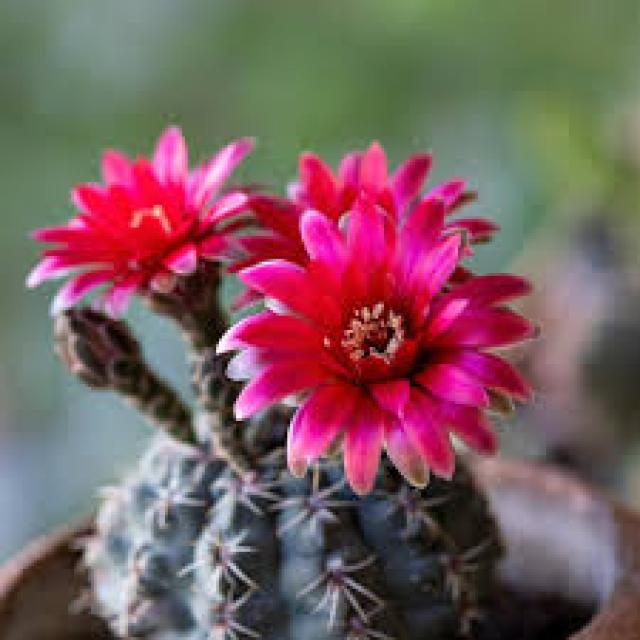cactus: (61, 413, 282, 640)
